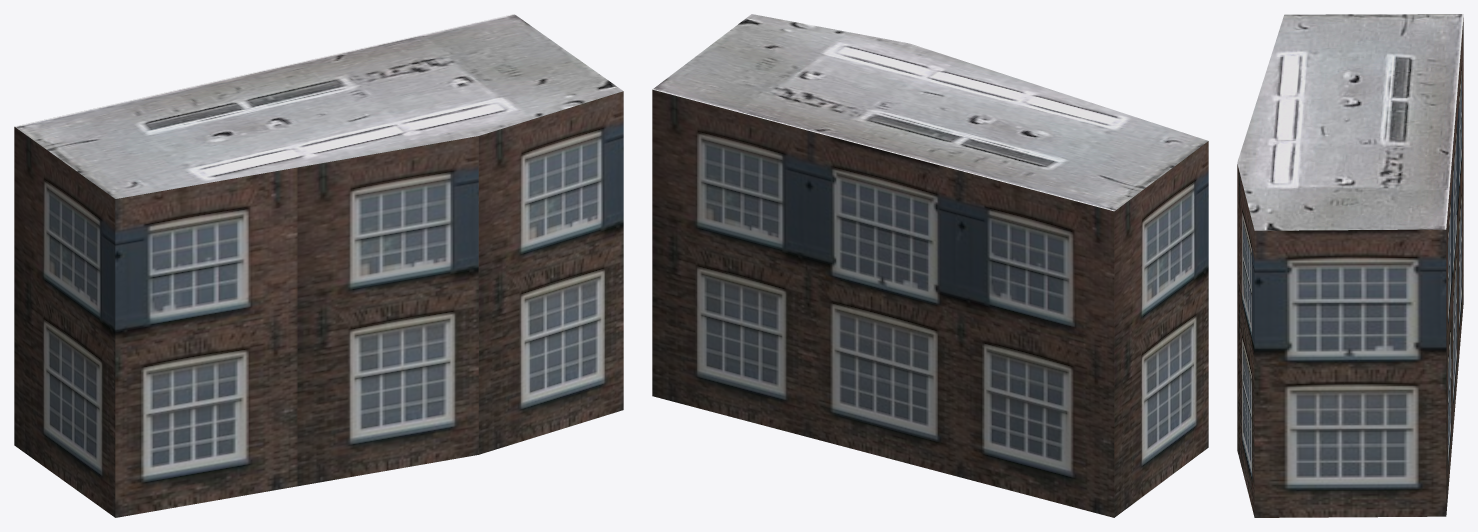
Rendered from EduTex_.fbx.
3 renders of one model, left to right at view 1: azimuth 30°, elevation 25°; view 2: azimuth 150°, elevation 25°; view 3: azimuth 270°, elevation 25°, orthographic. The views are drawn at different scales.
Parts seen in each view (by area): view 1: CityEngineMaterial_1_m, CityEngineMaterial_m; view 2: CityEngineMaterial_1_m, CityEngineMaterial_m; view 3: CityEngineMaterial_1_m, CityEngineMaterial_m.
Boxes of the visible parts, box(x1,y1,x2,y2) form: CityEngineMaterial_1_m: box(14, 91, 623, 517); CityEngineMaterial_m: box(14, 14, 623, 198); CityEngineMaterial_1_m: box(652, 89, 1208, 517); CityEngineMaterial_m: box(652, 14, 1207, 211); CityEngineMaterial_1_m: box(1237, 18, 1463, 517); CityEngineMaterial_m: box(1237, 14, 1463, 230).
Size of the model in its own units: 9.71 by 6 by 4.29.
2 materials, 2 textured.
